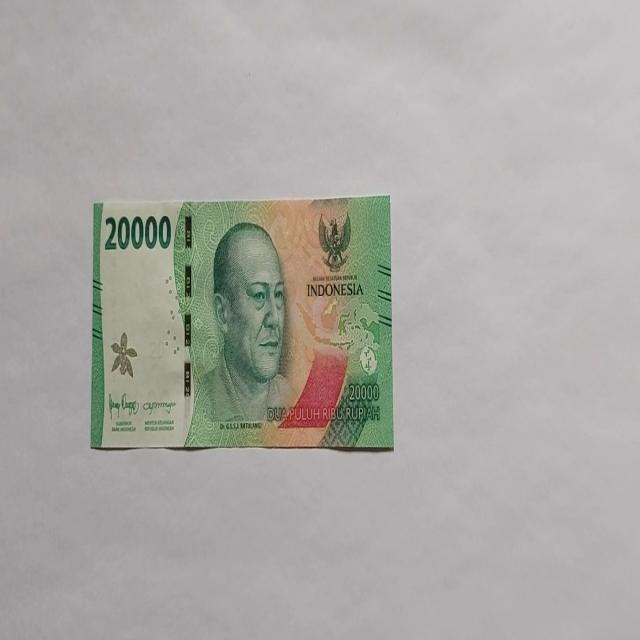dua puluh ribu rupiah: (90, 194, 394, 452), (186, 220, 300, 446)
